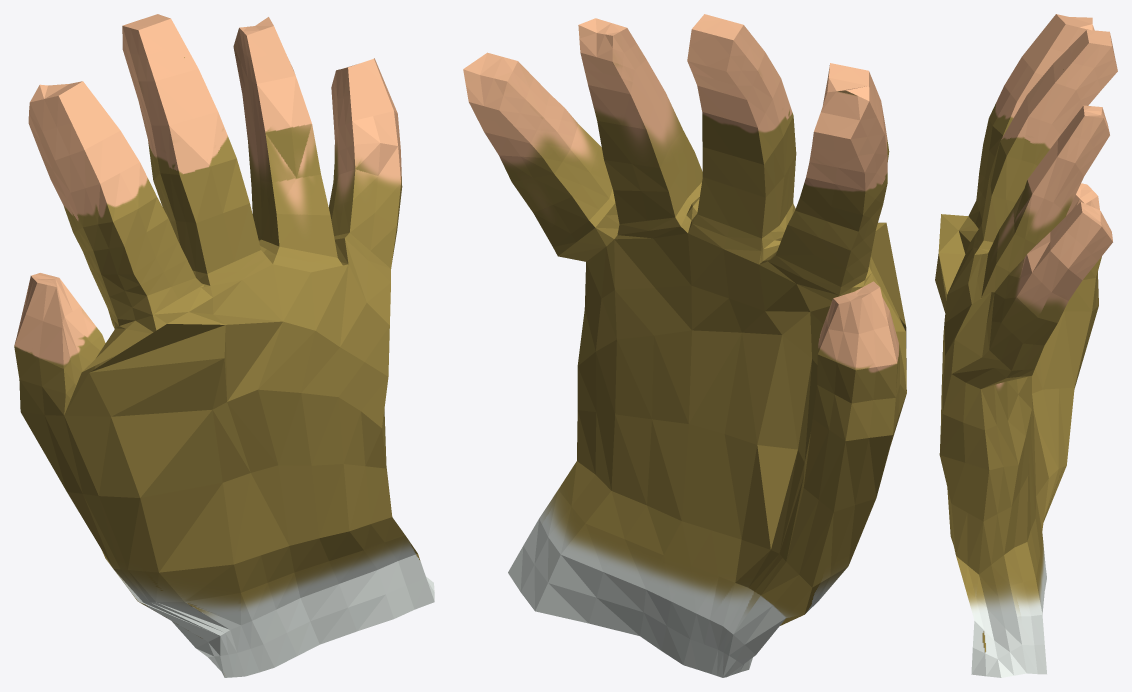
File: grip0015.obj
3 renders of one model, left to right at view 1: azimuth 30°, elevation 25°; view 2: azimuth 150°, elevation 25°; view 3: azimuth 270°, elevation 25°, orthographic. The views are drawn at different scales.
Parts seen in each view (by area): view 1: Hand; view 2: Hand; view 3: Hand.
Part boxes in pixels (x1=…): Hand: x1=14, y1=14, x2=434, y2=677; Hand: x1=463, y1=14, x2=906, y2=677; Hand: x1=935, y1=14, x2=1117, y2=677.
Bounding box in the file's own units: 3.01 × 4.75 × 1.36.
